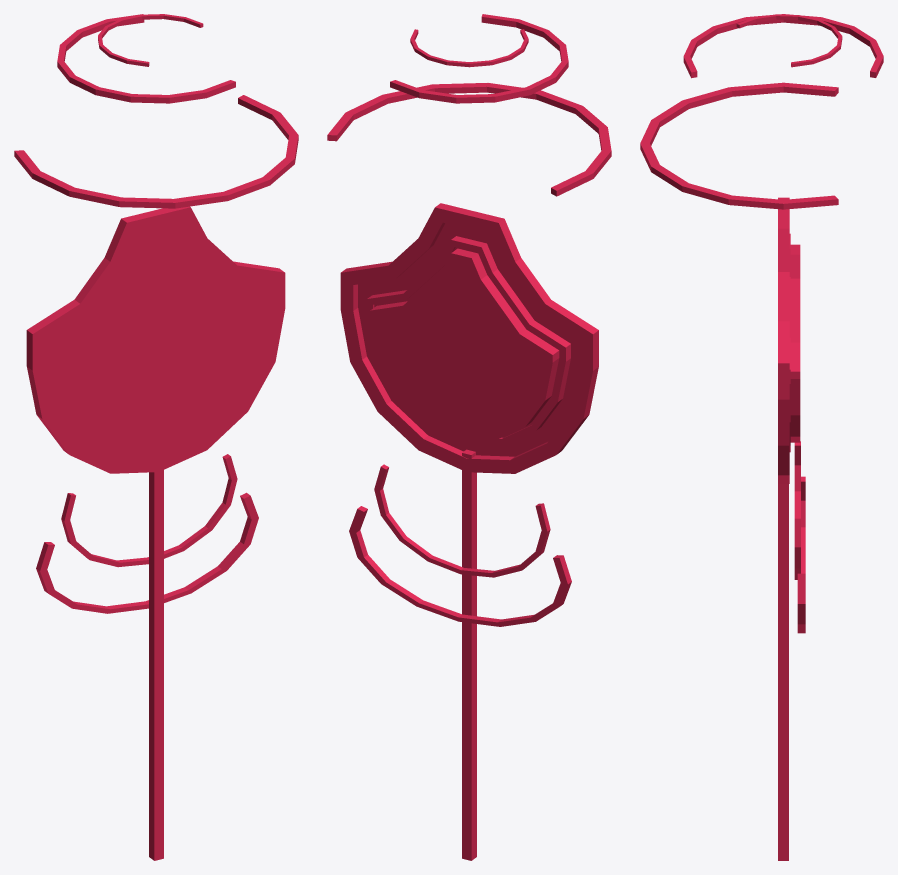
The model's file is amulet04_Mdl_Dec_Z2.fbx.
3 views of the same model, side by side, from view 1: azimuth 30°, elevation 25°; view 2: azimuth 150°, elevation 25°; view 3: azimuth 270°, elevation 25° (orthographic).
Visible parts, largest first — view 1: amulet04, Cube.041, Cylinder.084, Cylinder.086, Cylinder.082, Cylinder.085, amuletUp04; view 2: amulet04, Cube.041, Cylinder.084, Cylinder.086, Cylinder.082, Cylinder.085, amuletUp04; view 3: amulet04, Cylinder.084, Cube.041, Cylinder.082, Cylinder.086, amuletUp04, Cylinder.085.
Part boxes in pixels (x1,y1,x2,y2): amulet04: (26,206,285,473); Cube.041: (149,470,163,860); Cylinder.084: (14,95,298,208); Cylinder.086: (36,492,258,613); Cylinder.082: (57,14,235,103); Cylinder.085: (61,454,237,567); amuletUp04: (98,14,203,66); amulet04: (340,203,598,473); Cube.041: (462,449,476,860); Cylinder.084: (327,83,611,196); Cylinder.086: (349,506,571,626); Cylinder.082: (390,14,568,103); Cylinder.085: (374,464,550,577); amuletUp04: (410,29,528,67); amulet04: (778,197,800,483); Cylinder.084: (640,82,838,209); Cube.041: (778,484,788,860); Cylinder.082: (683,14,883,78); Cylinder.086: (797,476,805,633); amuletUp04: (736,14,842,67); Cylinder.085: (794,441,800,579).
Bounding box in the file's own units: 18.86 × 58.44 × 15.73.
